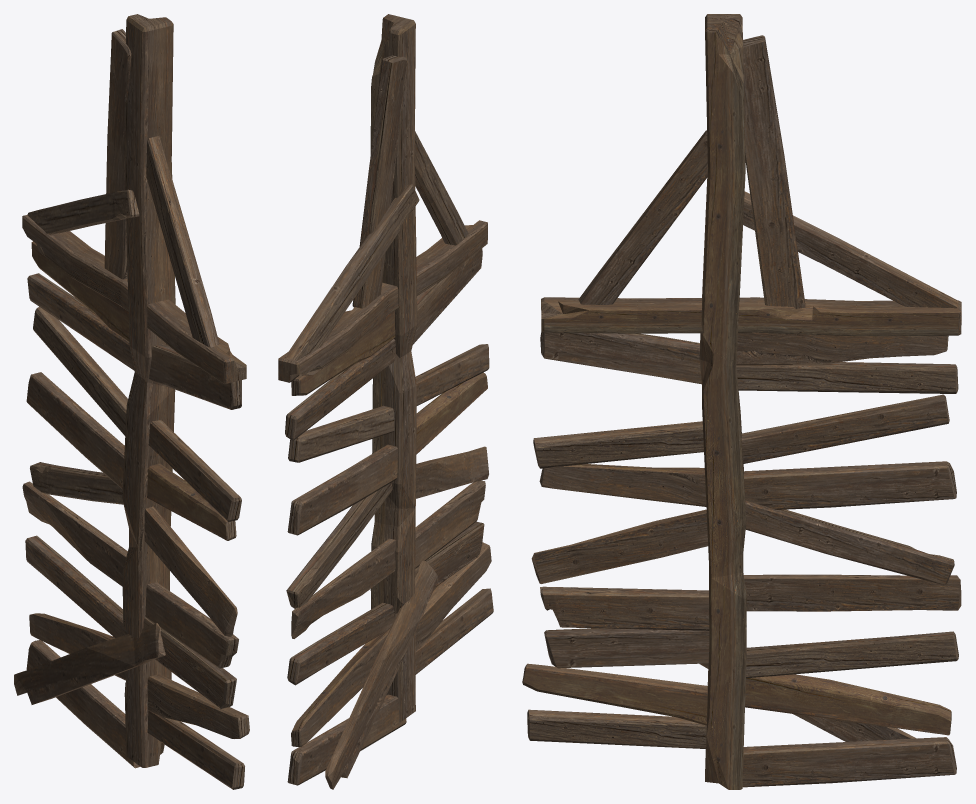
Rendered from SM_Asy_MazeWallAddons2m_02.fbx.
3 renders of one model, left to right at view 1: azimuth 30°, elevation 25°; view 2: azimuth 150°, elevation 25°; view 3: azimuth 270°, elevation 25°, orthographic. The views are drawn at different scales.
Visible parts, largest first — view 1: SM_Asy_MazeWallAddons2m_02.mo; view 2: SM_Asy_MazeWallAddons2m_02.mo; view 3: SM_Asy_MazeWallAddons2m_02.mo.
Part boxes in pixels (x1=…): SM_Asy_MazeWallAddons2m_02.mo: x1=14, y1=14, x2=249, y2=789; SM_Asy_MazeWallAddons2m_02.mo: x1=278, y1=14, x2=493, y2=789; SM_Asy_MazeWallAddons2m_02.mo: x1=522, y1=14, x2=961, y2=789.
Size of the model in its own units: 33.6 by 468 by 242.
